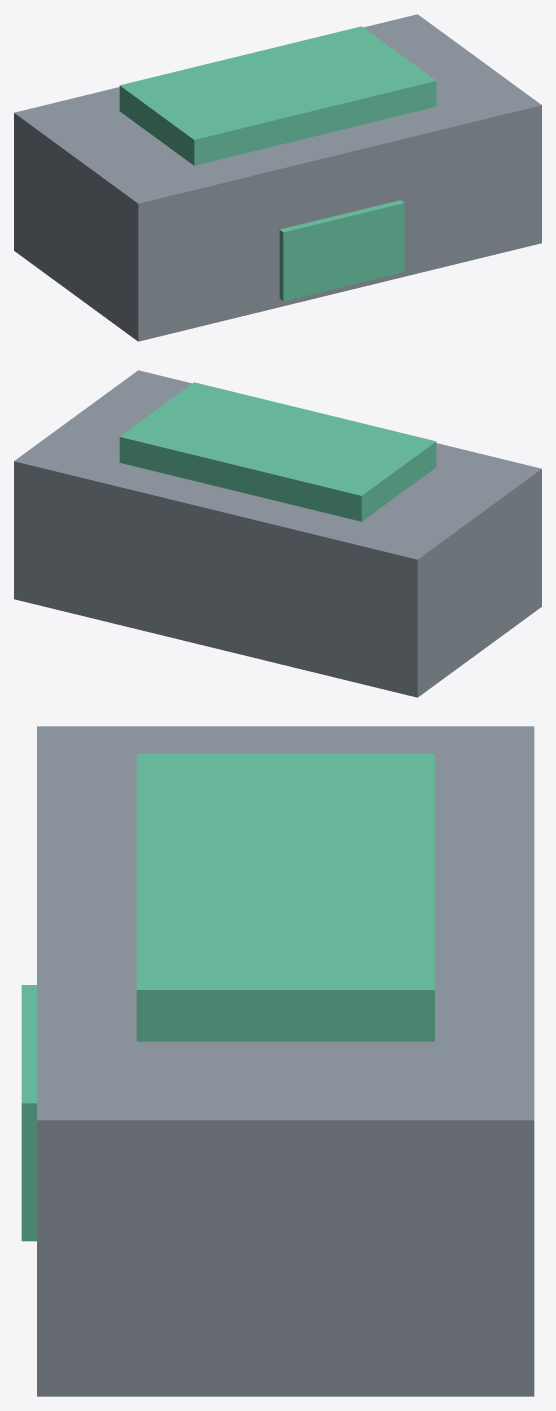
The model's file is CO_MonsoonArtillery_LOD0.glb.
3 views of the same model, one above another, from view 1: azimuth 30°, elevation 25°; view 2: azimuth 150°, elevation 25°; view 3: azimuth 270°, elevation 25° (orthographic). The views are drawn at different scales.
Parts seen in each view (by area): view 1: EntranceGate; view 2: EntranceGate; view 3: EntranceGate.
Boxes of the visible parts, x1=… form: EntranceGate: x1=14, y1=14, x2=541, y2=341; EntranceGate: x1=14, y1=370, x2=541, y2=697; EntranceGate: x1=21, y1=726, x2=534, y2=1396.
Size of the model in its own units: 600 by 233 by 330.
